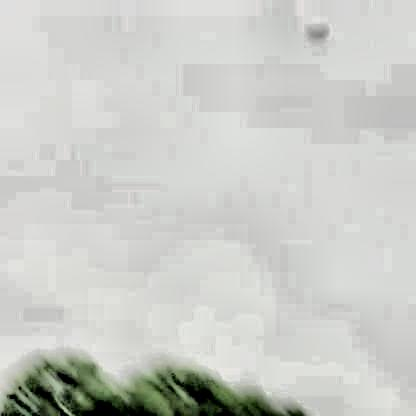golfball: (302, 25, 326, 41)
